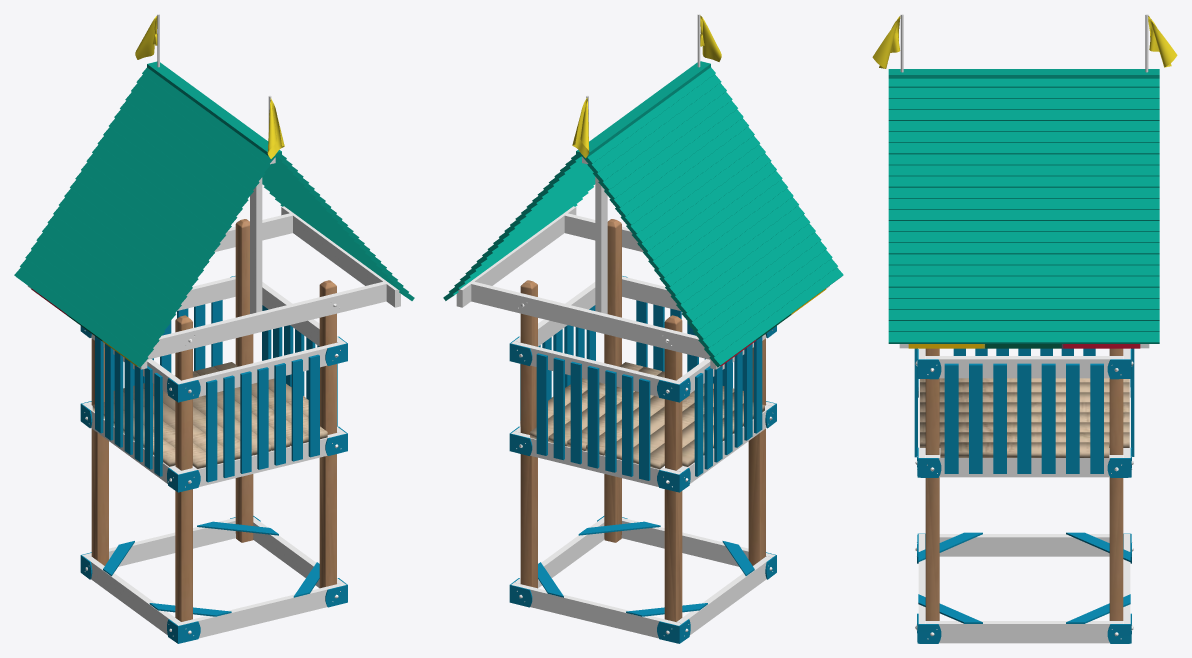
3 renders of one model, left to right at view 1: azimuth 30°, elevation 25°; view 2: azimuth 150°, elevation 25°; view 3: azimuth 270°, elevation 25°, orthographic. The views are drawn at different scales.
Visible parts, largest first — view 1: roof_poly, Cube833, Watch_tower_base_middle002, Watch_tower_base_bottom002, Cube833_1.001, Cube833_1, Watch_tower_corner_Top002,_colorize_, Watch_tower_joint002,_colorize_, roof_poly_1, Watch_tower_corner_Bottom002,_colorize_, fence,_colorize__1, fence,_colorize__5 (+13 smaller); view 2: roof_poly, Cube833, Watch_tower_base_middle002, Watch_tower_base_bottom002, Cube833_1.001, Cube833_1, Watch_tower_corner_Top002,_colorize_, Watch_tower_joint002,_colorize_, roof_poly_1, fence,_colorize__25, Watch_tower_corner_Bottom002,_colorize_, fence,_colorize__12 (+14 smaller); view 3: roof_poly, Watch_tower_base_bottom002, Cube833_1, Cube833, Watch_tower_base_middle002, roof_poly_1, Cube833_1.001, Watch_tower_corner_Top002,_colorize_, Watch_tower_joint002,_colorize_, fence,_colorize__24, fence,_colorize__6, fence,_colorize__9 (+8 smaller).
Boxes of the visible parts, box(x1,y1,x2,y2) form: roof_poly: box(14, 67, 414, 367); Cube833: box(28, 157, 400, 487); Watch_tower_base_middle002: box(91, 405, 336, 621); Watch_tower_base_bottom002: box(82, 517, 346, 638); Cube833_1.001: box(91, 219, 336, 469); Cube833_1: box(92, 362, 327, 468); Watch_tower_corner_Top002,_colorize_: box(80, 276, 347, 492); Watch_tower_joint002,_colorize_: box(103, 521, 319, 616); roof_poly_1: box(147, 61, 281, 156); Watch_tower_corner_Bottom002,_colorize_: box(80, 516, 347, 643); fence,_colorize__1: box(223, 375, 234, 477); fence,_colorize__5: box(308, 354, 319, 457); roof_poly: box(443, 67, 843, 367); Cube833: box(456, 157, 829, 487); Watch_tower_base_middle002: box(520, 404, 765, 621); Watch_tower_base_bottom002: box(511, 517, 775, 638); Cube833_1.001: box(520, 219, 765, 469); Cube833_1: box(520, 362, 764, 469); Watch_tower_corner_Top002,_colorize_: box(509, 276, 776, 492); Watch_tower_joint002,_colorize_: box(538, 521, 754, 616); roof_poly_1: box(576, 61, 710, 157); fence,_colorize__25: box(587, 366, 599, 468); Watch_tower_corner_Bottom002,_colorize_: box(509, 516, 776, 643); fence,_colorize__12: box(536, 353, 547, 455); roof_poly: box(888, 78, 1159, 343); Watch_tower_base_bottom002: box(915, 534, 1133, 643); Cube833_1: box(920, 378, 1129, 457); Cube833: box(899, 344, 1149, 477); Watch_tower_base_middle002: box(925, 454, 1123, 620); roof_poly_1: box(888, 69, 1159, 78); Cube833_1.001: box(925, 348, 1123, 454); Watch_tower_corner_Top002,_colorize_: box(917, 349, 1131, 477); Watch_tower_joint002,_colorize_: box(918, 532, 1130, 623); fence,_colorize__24: box(1017, 363, 1031, 473); fence,_colorize__6: box(944, 363, 958, 473); fence,_colorize__9: box(1041, 363, 1055, 473).
Bounding box in the file's own units: 2.52 × 4.63 × 2.19.
9 materials, 3 textured.
